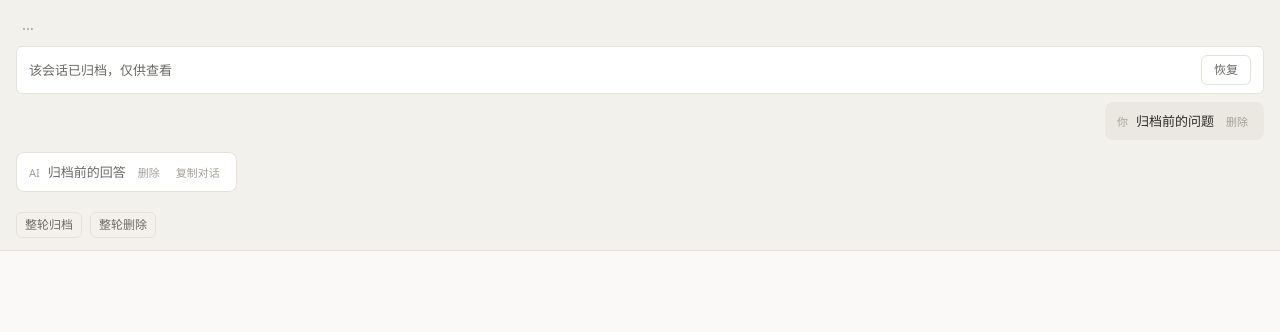
#1015 归档会话（URL conversationId 指定）→ 横幅 + 只读 + include_deleted 加载 › 点击 chat-archived-restore → restoreChatConversation(cid) 成功 → 横幅消失、输入区恢复
expect the message "该会话已归档，仅供查看 恢复" is shown: met, box [16, 46, 1264, 94]
Click the button with test id "chat-archived-restore" at [1226, 70], box [1201, 54, 1251, 85]
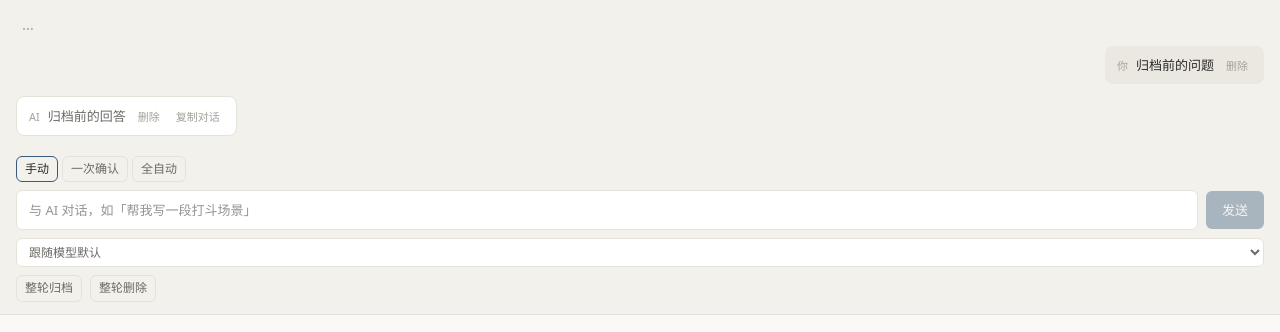
expect the message with test id "chat-archived-banner" is gone: met
expect the text box with test id "chat-input" is shown: met, box [16, 190, 1198, 230]
